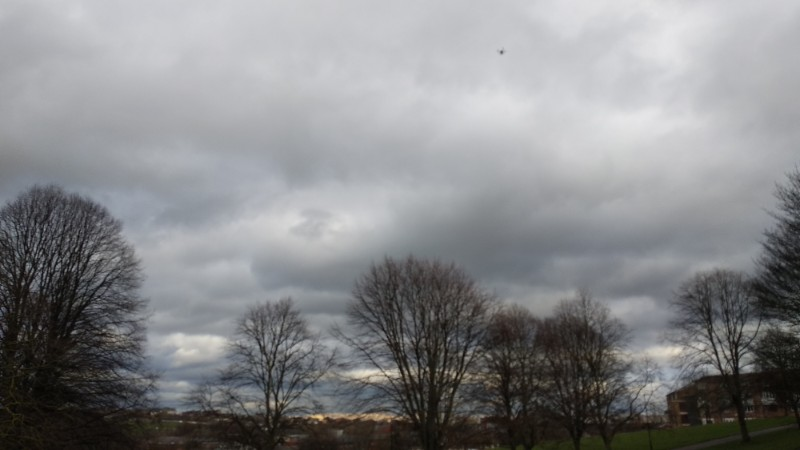drone: (497, 47, 505, 55)
